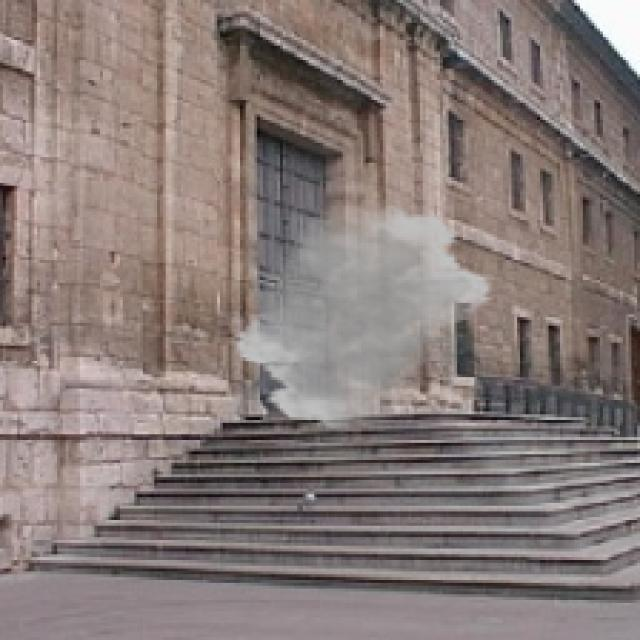smoke: (232, 200, 494, 434)
